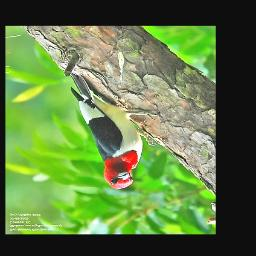Woodpecker: (65, 74, 156, 190)
